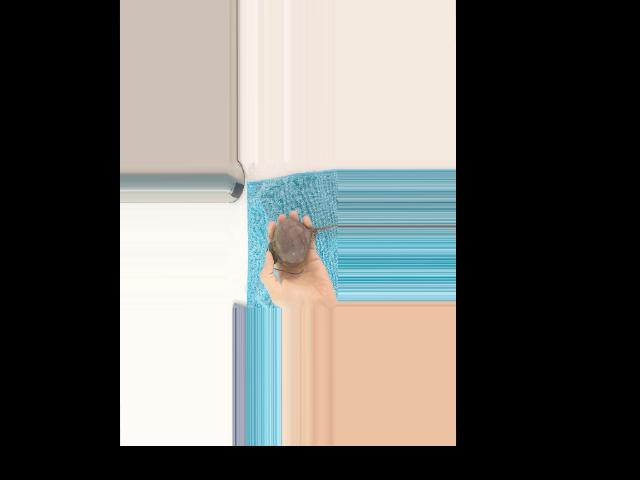beet: (266, 217, 338, 273)
